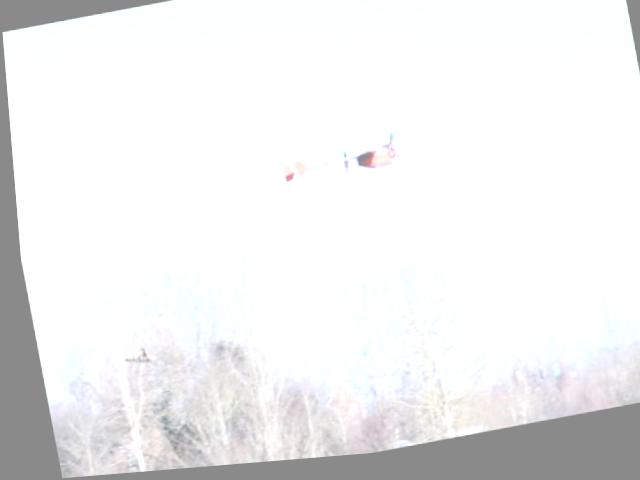uav: (268, 129, 413, 208)
